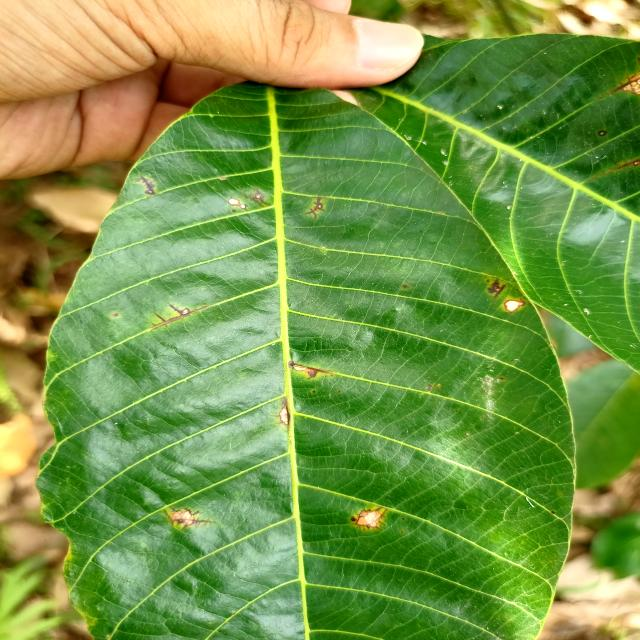Colletotrichum: (596, 130, 607, 136), (351, 517, 356, 522), (232, 210, 236, 212)
Corynespora: (149, 303, 207, 331), (162, 506, 220, 528), (289, 362, 329, 377), (243, 188, 272, 207), (302, 196, 326, 218), (485, 277, 508, 299), (134, 175, 158, 195)
Leaf-Blight: (356, 510, 381, 527), (506, 298, 526, 311)
